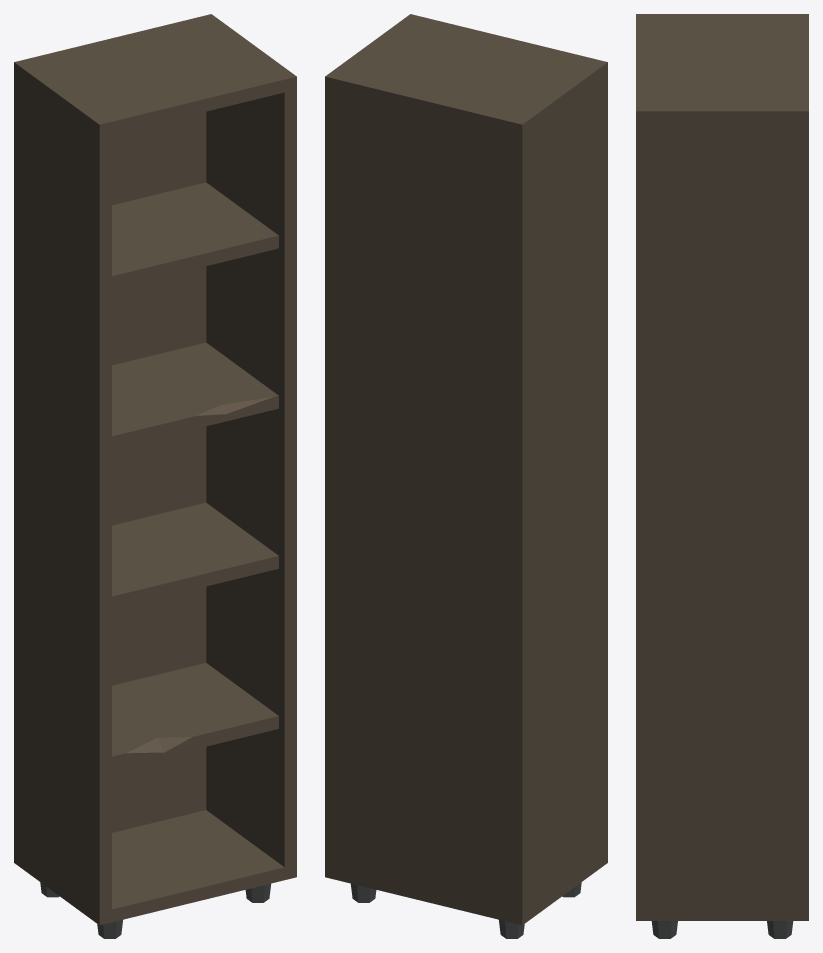
Rendered from SM_Props_Interior_House_Room_Shelf_Decorative_03.fbx.
3 views of the same model, side by side, from view 1: azimuth 30°, elevation 25°; view 2: azimuth 150°, elevation 25°; view 3: azimuth 270°, elevation 25° (orthographic).
Visible parts, largest first — view 1: SM_Props_Interior_House_Room_Shelf_Decorative_03; view 2: SM_Props_Interior_House_Room_Shelf_Decorative_03; view 3: SM_Props_Interior_House_Room_Shelf_Decorative_03.
Part boxes in pixels (box(x1,y1,x2,y2)): SM_Props_Interior_House_Room_Shelf_Decorative_03: box(14, 14, 296, 938); SM_Props_Interior_House_Room_Shelf_Decorative_03: box(325, 14, 607, 938); SM_Props_Interior_House_Room_Shelf_Decorative_03: box(636, 14, 808, 938).
Size of the model in its own units: 40 by 160 by 30.
